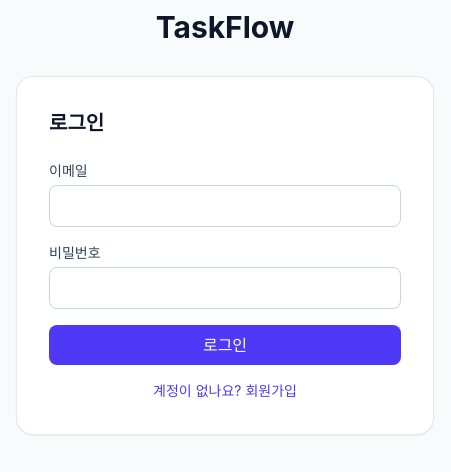
회원가입 화면 › 가입에 성공하면 같은 정보로 바로 로그인한다
The width and height of the screenshot is (451, 472).
Step 1. Click the button "계정이 없나요? 회원가입" → (225, 391), box [49,381,401,401]
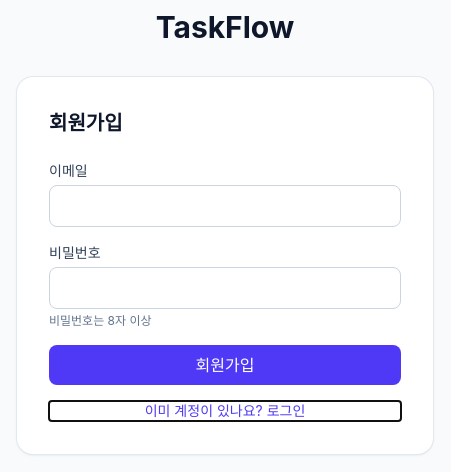
Step 2. Type "alice@example.com" into the field labelled "이메일" → (225, 206), box [49,185,401,227]
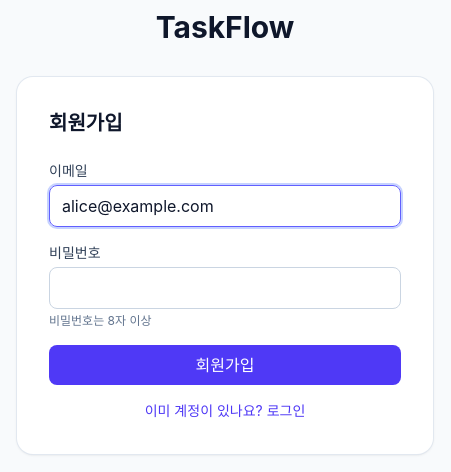
Step 3. Type "correct-horse" into the password field labelled "비밀번호" → (225, 288), box [49,267,401,309]
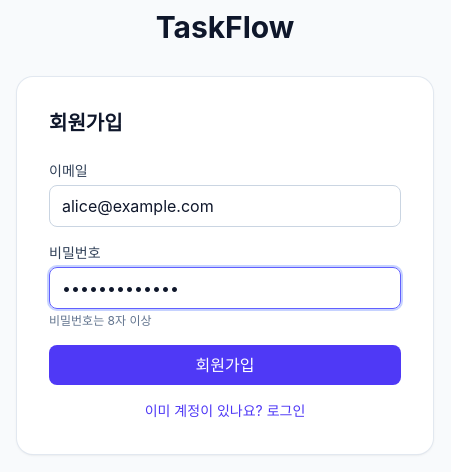
Step 4. Click the button "회원가입" → (225, 365), box [49,345,401,385]
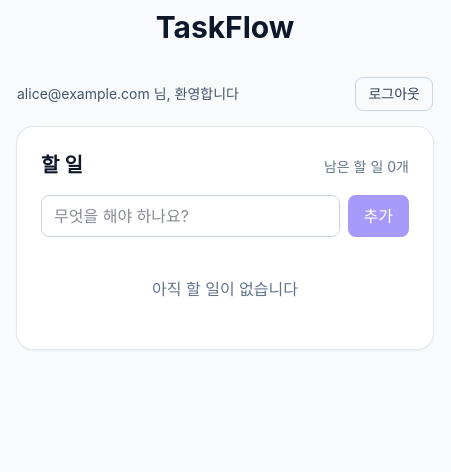
Check: the text "alice@example.com 님, 환영합니다" is shown, box [17,84,239,104]
